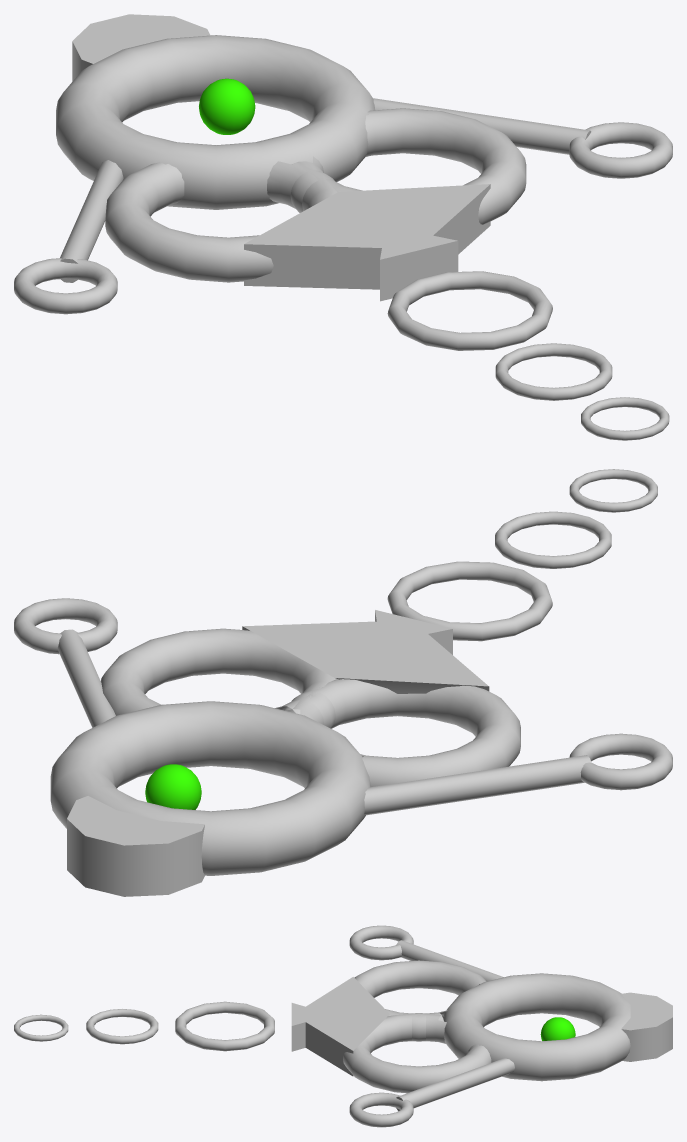
File: Student1_xLab_Daniel.fbx
3 renders of one model, top to bottom at view 1: azimuth 30°, elevation 25°; view 2: azimuth 150°, elevation 25°; view 3: azimuth 270°, elevation 25°, orthographic. The views are drawn at different scales.
Parts seen in each view (by area): view 1: Torus, Cube, Torus_1, Torus_2, Ring_1, Torus_5, Torus_4, Cylinder, Ring, Cylinder_1, Cylinder_2, Sphere (+1 smaller); view 2: Torus, Torus_1, Cube, Torus_2, Cylinder, Cylinder_2, Ring_1, Torus_5, Torus_4, Ring, Cylinder_1, Sphere (+1 smaller); view 3: Torus, Cube, Torus_2, Torus_1, Cylinder, Ring_1, Cylinder_1, Torus_4, Torus_5, Ring, Cylinder_2, Ring_2 (+1 smaller).
Boxes of the visible parts, bbox=[...] form: Torus: bbox=[56, 35, 374, 209]; Cube: bbox=[244, 184, 490, 301]; Torus_1: bbox=[105, 161, 337, 282]; Torus_2: bbox=[290, 108, 526, 224]; Ring_1: bbox=[387, 271, 552, 350]; Torus_5: bbox=[14, 258, 117, 314]; Torus_4: bbox=[569, 122, 672, 178]; Cylinder: bbox=[72, 14, 210, 81]; Ring: bbox=[495, 343, 612, 400]; Cylinder_1: bbox=[373, 98, 591, 154]; Cylinder_2: bbox=[60, 160, 123, 282]; Sphere: bbox=[199, 78, 255, 134]; Torus: bbox=[50, 701, 370, 875]; Torus_1: bbox=[284, 679, 520, 786]; Cube: bbox=[242, 610, 489, 693]; Torus_2: bbox=[101, 628, 337, 728]; Cylinder: bbox=[67, 796, 204, 896]; Cylinder_2: bbox=[364, 755, 591, 815]; Ring_1: bbox=[387, 561, 552, 641]; Torus_5: bbox=[569, 733, 672, 790]; Torus_4: bbox=[14, 598, 117, 654]; Ring: bbox=[495, 511, 611, 568]; Cylinder_1: bbox=[57, 629, 115, 727]; Sphere: bbox=[145, 764, 201, 809]; Torus: bbox=[443, 973, 630, 1081]; Cube: bbox=[291, 977, 389, 1076]; Torus_2: bbox=[343, 1013, 491, 1093]; Torus_1: bbox=[354, 960, 486, 1041]; Cylinder: bbox=[621, 992, 672, 1061]; Ring_1: bbox=[175, 1001, 274, 1051]; Cylinder_1: bbox=[396, 1058, 514, 1110]; Torus_4: bbox=[349, 1092, 413, 1127]; Torus_5: bbox=[349, 925, 413, 960]; Ring: bbox=[86, 1009, 158, 1044]; Cylinder_2: bbox=[396, 940, 503, 981]; Ring_2: bbox=[14, 1014, 68, 1041].
Size of the model in its own units: 4502 by 387 by 6444.
